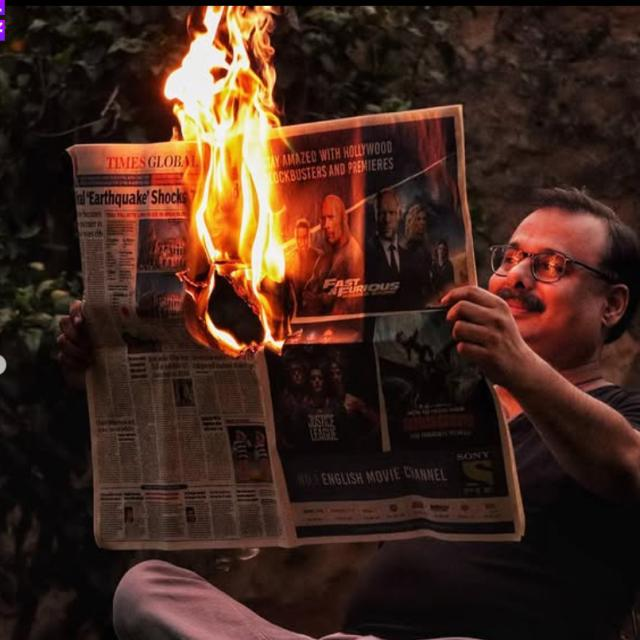fire: (165, 4, 283, 357)
